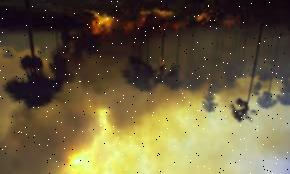fire: (82, 0, 240, 41)
